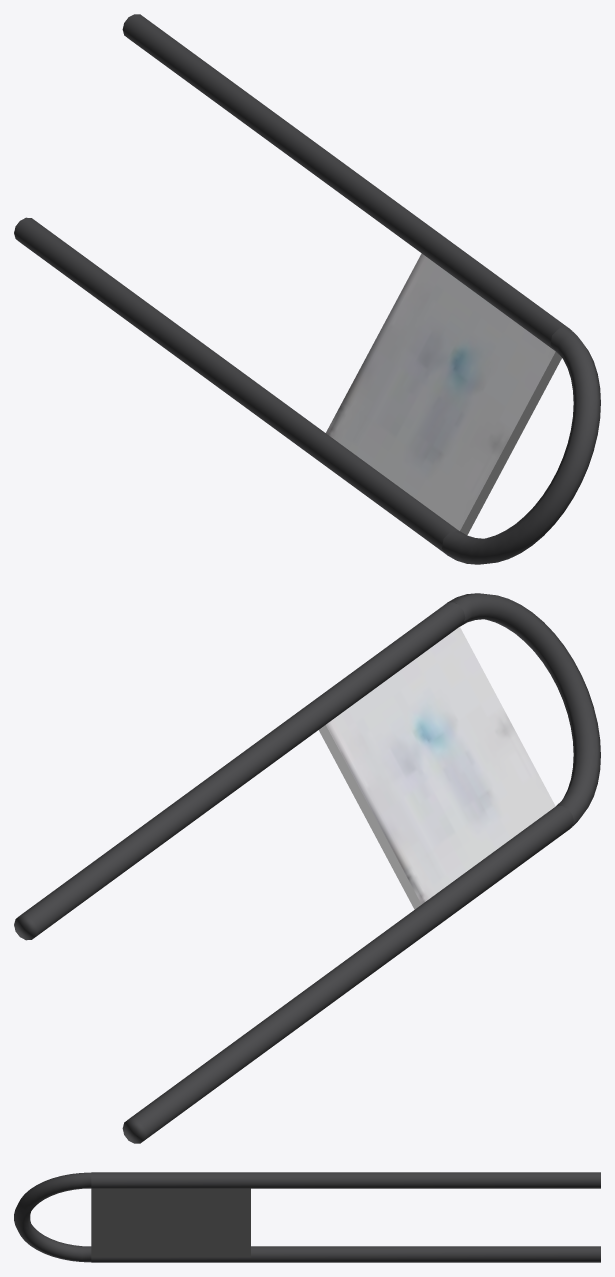
The model's file is sign_1.glb.
3 renders of one model, top to bottom at view 1: azimuth 30°, elevation 25°; view 2: azimuth 150°, elevation 25°; view 3: azimuth 270°, elevation 25°, orthographic. The views are drawn at different scales.
Visible parts, largest first — view 1: sign_1; view 2: sign_1; view 3: sign_1.
Boxes of the visible parts, <box> form: sign_1: <box>14,14,600,564</box>; sign_1: <box>14,593,600,1143</box>; sign_1: <box>14,1172,600,1262</box>.
Bounding box in the file's own units: 0.00616 × 0.00898 × 0.0397.
Materials: 3 (1 with a texture image).
